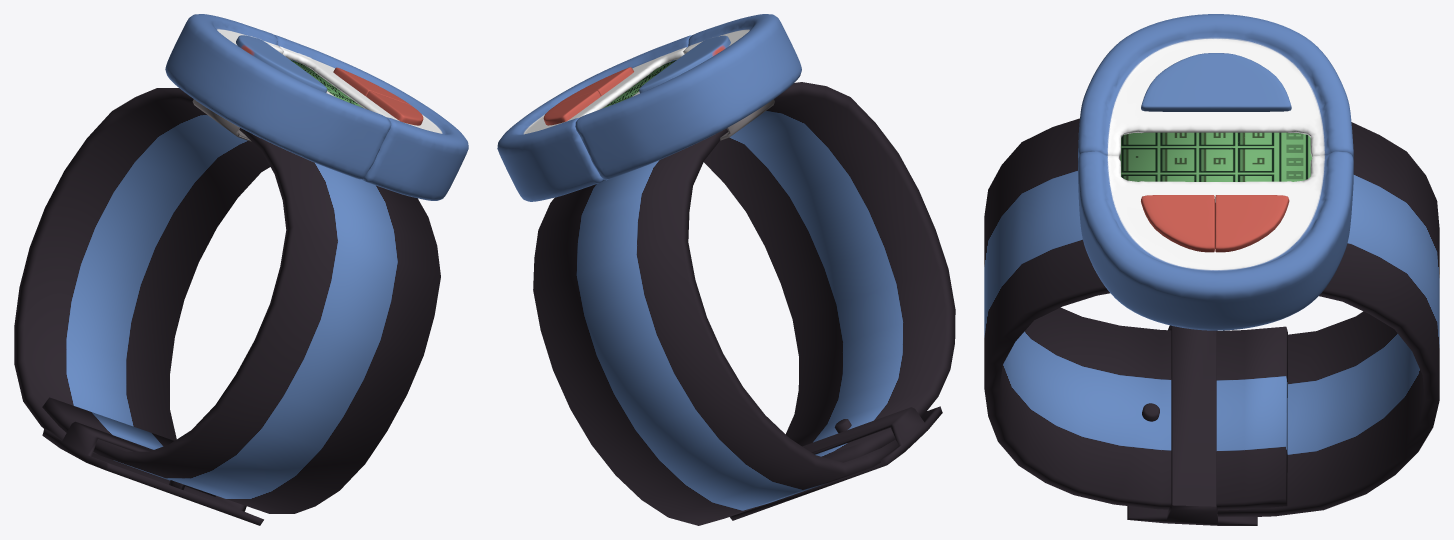
The model's file is Poketch.fbx.
3 renders of one model, left to right at view 1: azimuth 30°, elevation 25°; view 2: azimuth 150°, elevation 25°; view 3: azimuth 270°, elevation 25°, orthographic. The views are drawn at different scales.
Parts seen in each view (by area): view 1: Object001; view 2: Object001; view 3: Object001.
Boxes of the visible parts, left/top/right/bottom form: Object001: left=14, top=14, right=468, bottom=525; Object001: left=497, top=14, right=955, bottom=525; Object001: left=984, top=14, right=1439, bottom=525.
Bounding box in the file's own units: 2.43 × 2.81 × 2.27.
Materials: 9 (9 with a texture image).
